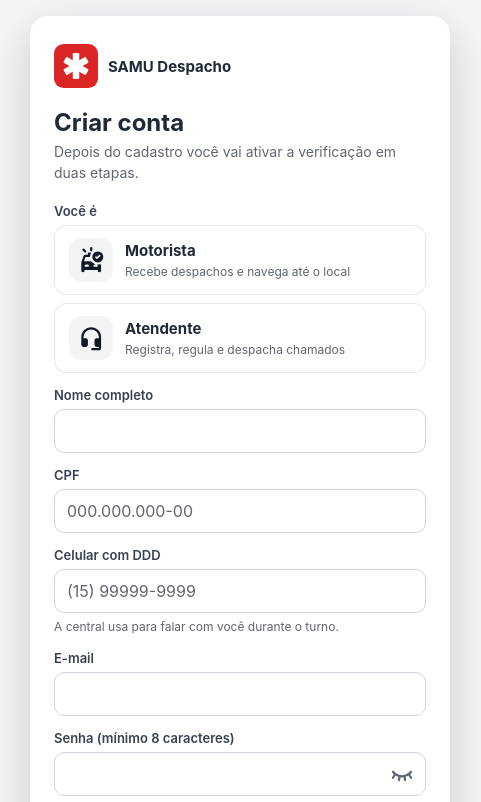
Test case: cadastro › máscaras no CPF e no celular
Type "52998224725" into the field labelled "CPF". click: {"x": 240, "y": 511}
box: [54,489,426,533]
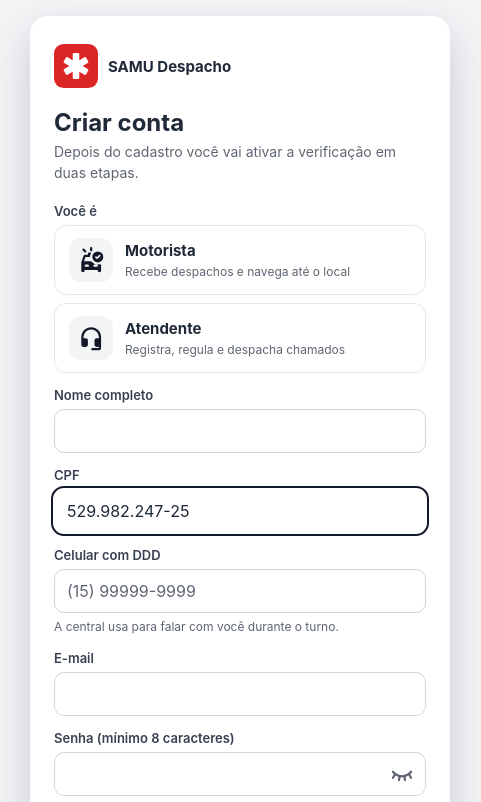
Type "15991234567" into the field labelled "Celular com DDD". click: {"x": 240, "y": 591}
box: [54,569,426,613]
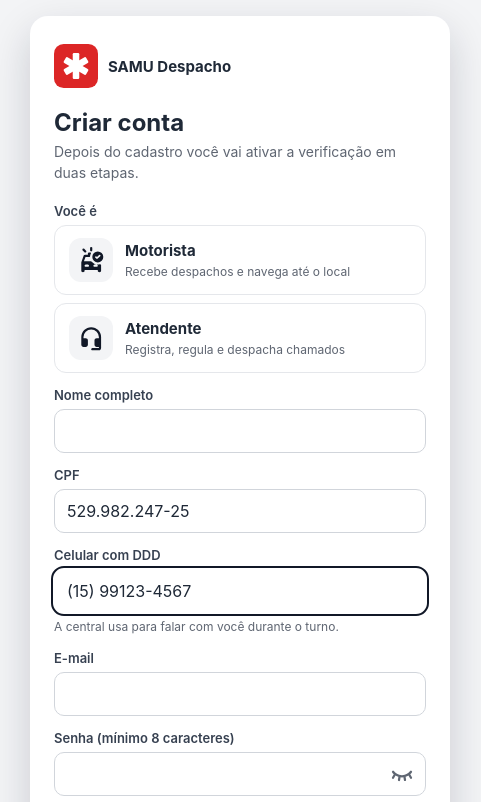
Expected: the field labelled "CPF" holds "529.982.247-25", [54,489,426,533]
Expected: the field labelled "Celular com DDD" holds "(15) 99123-4567", [54,569,426,613]
